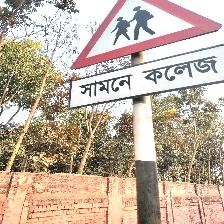College-in-front: (46, 4, 224, 129)
